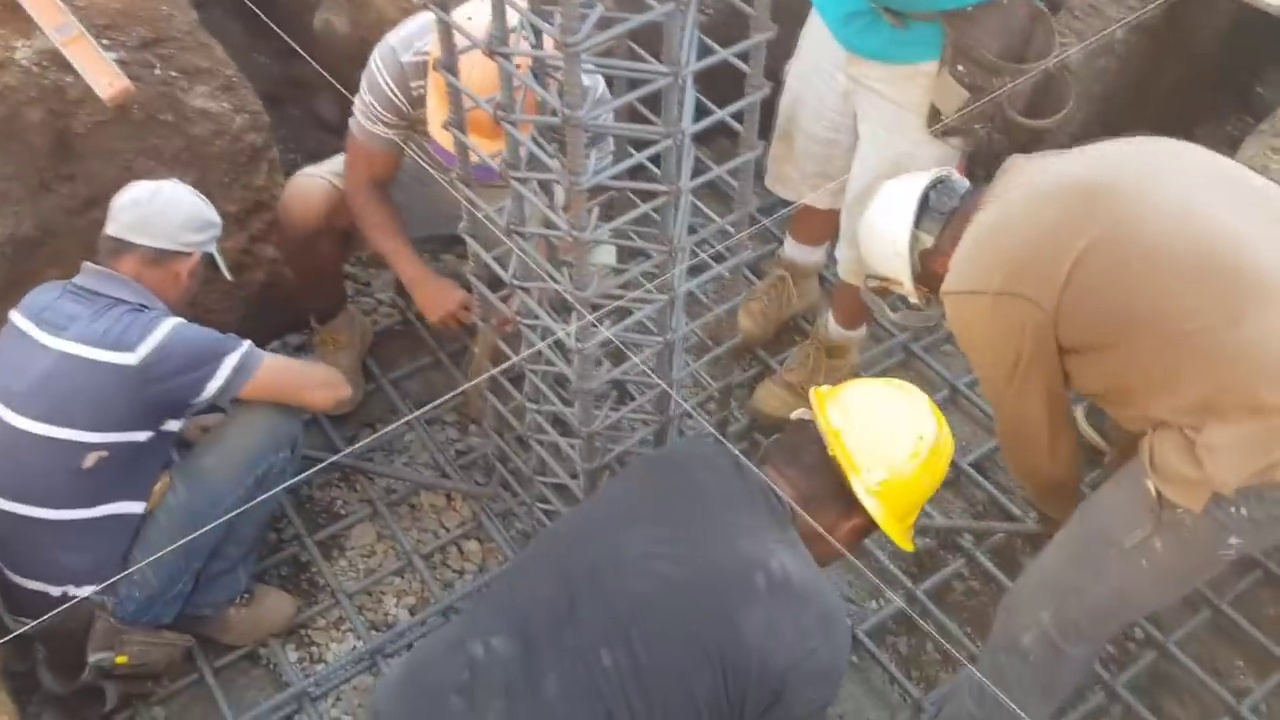helmet: (799, 379, 955, 553), (853, 165, 971, 310), (425, 16, 542, 160)
helmet-off: (89, 170, 223, 309)
helmet-on: (752, 379, 960, 574), (408, 0, 563, 163), (852, 149, 1004, 315)
person: (847, 136, 1280, 713), (351, 379, 969, 720), (0, 173, 354, 683), (267, 0, 620, 362), (737, 2, 970, 421)
